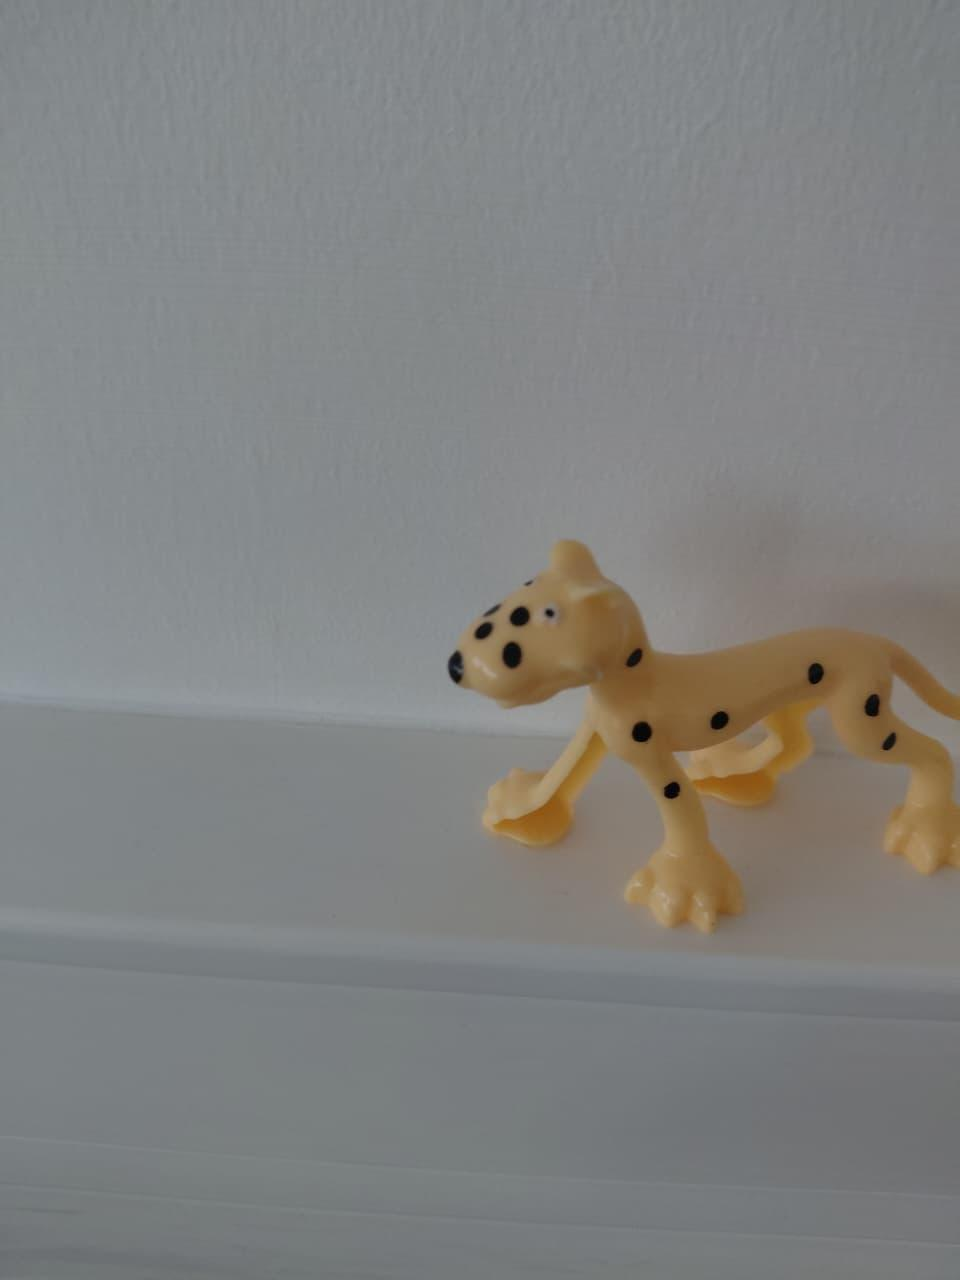cheetah: (433, 506, 960, 1005)
